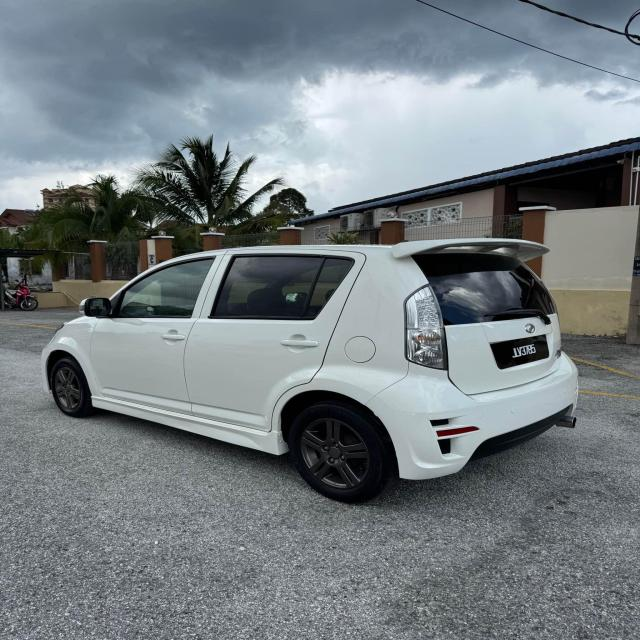PeroduaMyvi: (41, 235, 580, 504)
